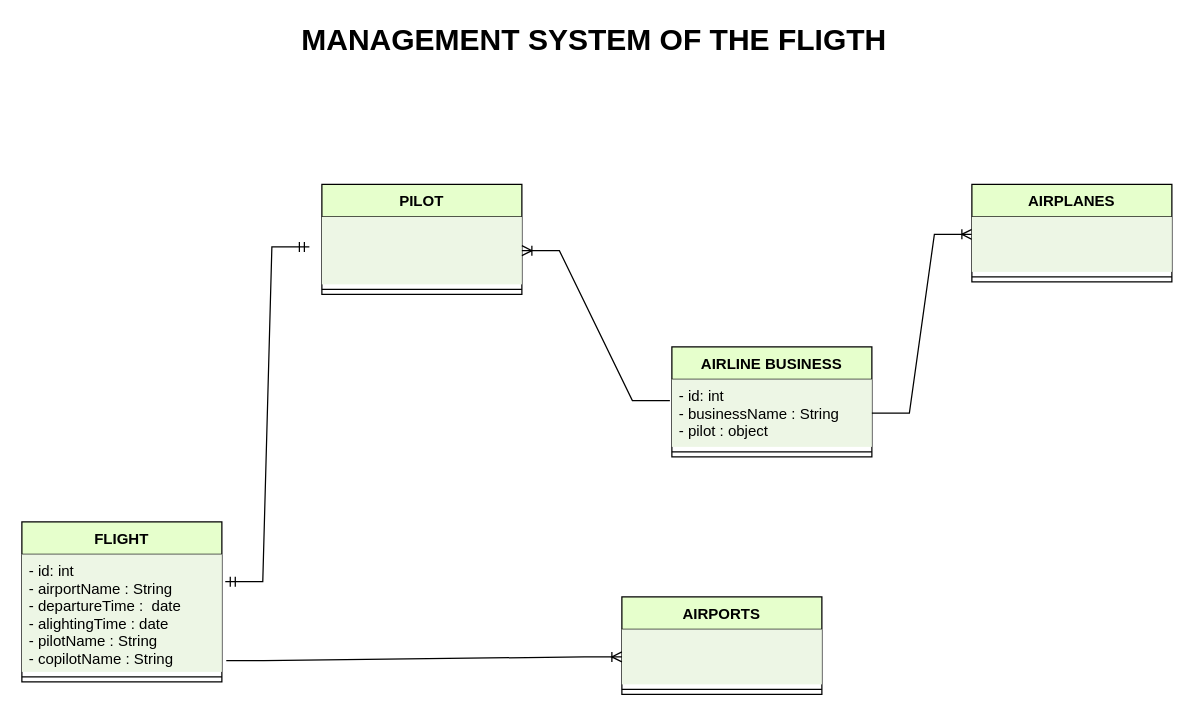
Image size: 1194x716. Some labels were removed from this diagram. The centre of each missing label's shape, as x and y in pixels:
"- airportID: int - airportName : String" belongs at point 721,656.
"- name: String - type : String - experienceLevel : int" belongs at point 421,250.
"- planeType: String - planeStiuation : Boolean - pilotNumber : int" belongs at point 1071,243.
